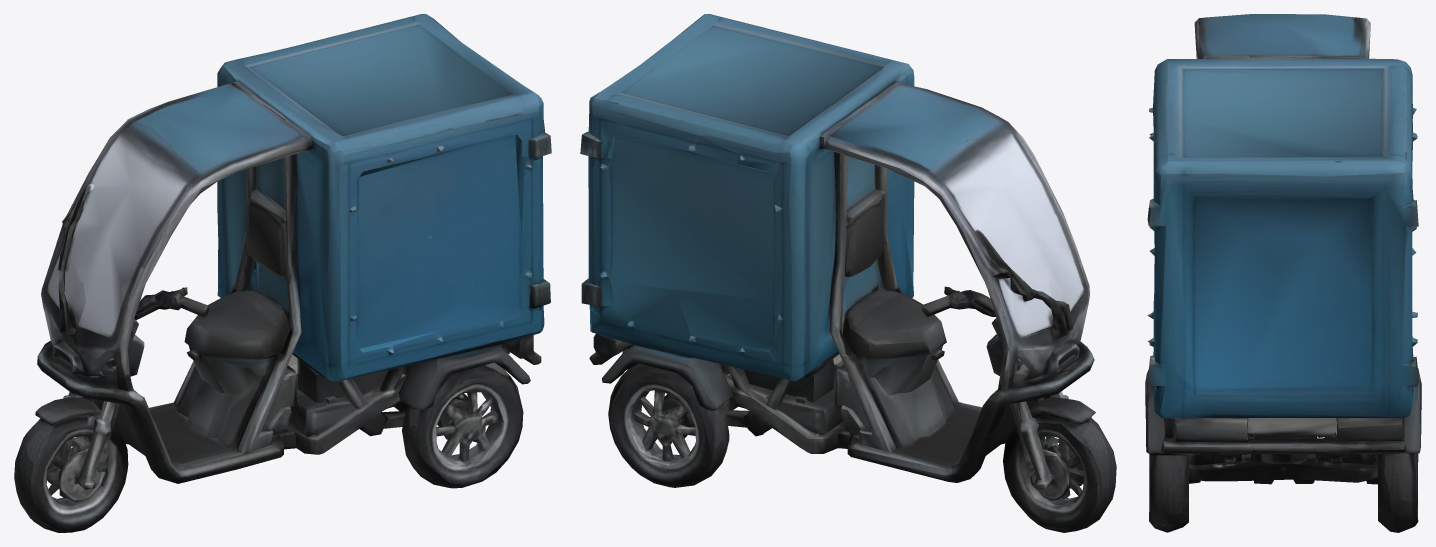
File: trike.glb
The picture shows the model from 3 angles, left to right: view 1: azimuth 30°, elevation 25°; view 2: azimuth 150°, elevation 25°; view 3: azimuth 270°, elevation 25°; orthographic projection. The views are drawn at different scales.
Visible parts, largest first — view 1: world; view 2: world; view 3: world.
Boxes of the visible parts, x1,y1,x2,y2 form: world: [14, 14, 551, 532]; world: [580, 14, 1116, 532]; world: [1145, 14, 1421, 532].
Bounding box in the file's own units: 2.3 × 1.77 × 1.1.
Materials: 1 (1 with a texture image).
